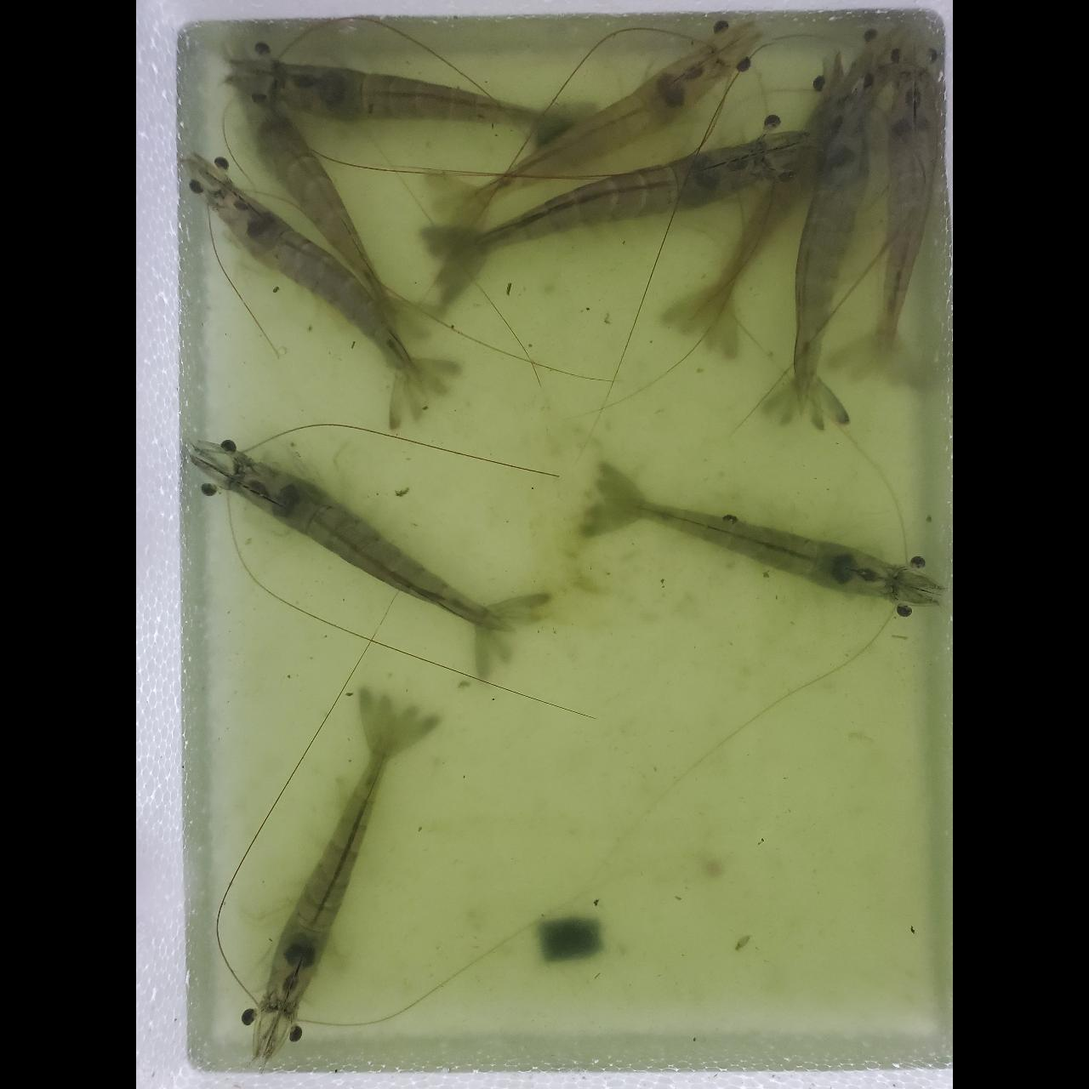box: (536, 910, 601, 965)
top_shrimp: (698, 61, 884, 336), (231, 461, 517, 634), (452, 49, 729, 214), (217, 184, 424, 397), (440, 142, 767, 269), (266, 712, 397, 1011), (594, 496, 900, 602), (253, 117, 397, 339), (792, 98, 869, 415), (275, 64, 583, 127), (879, 72, 936, 370)
